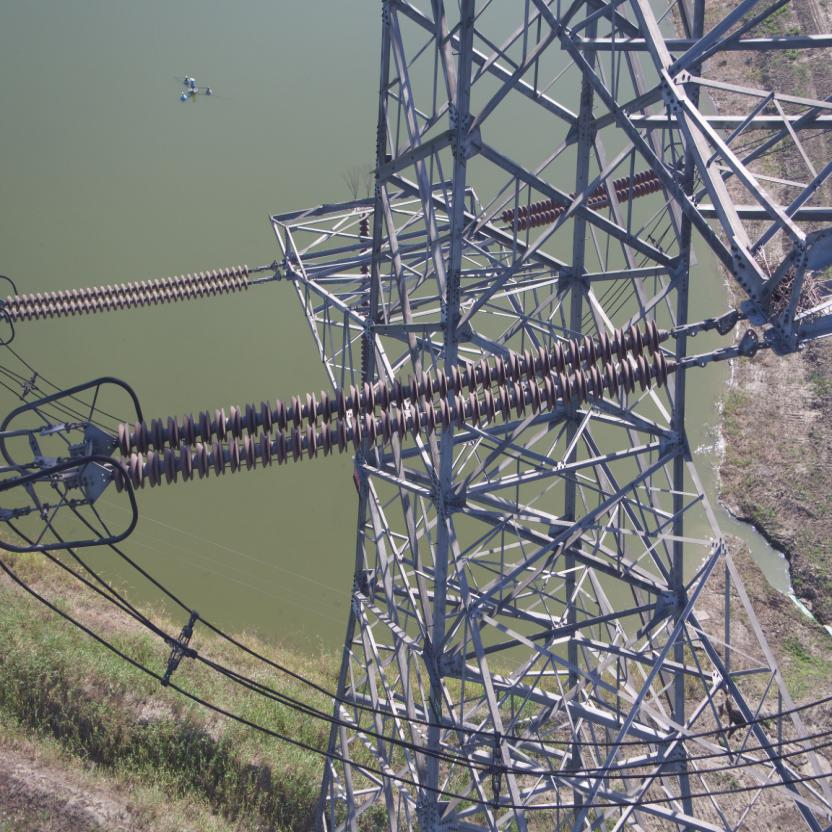insulator: (101, 316, 694, 495), (0, 261, 264, 323)
